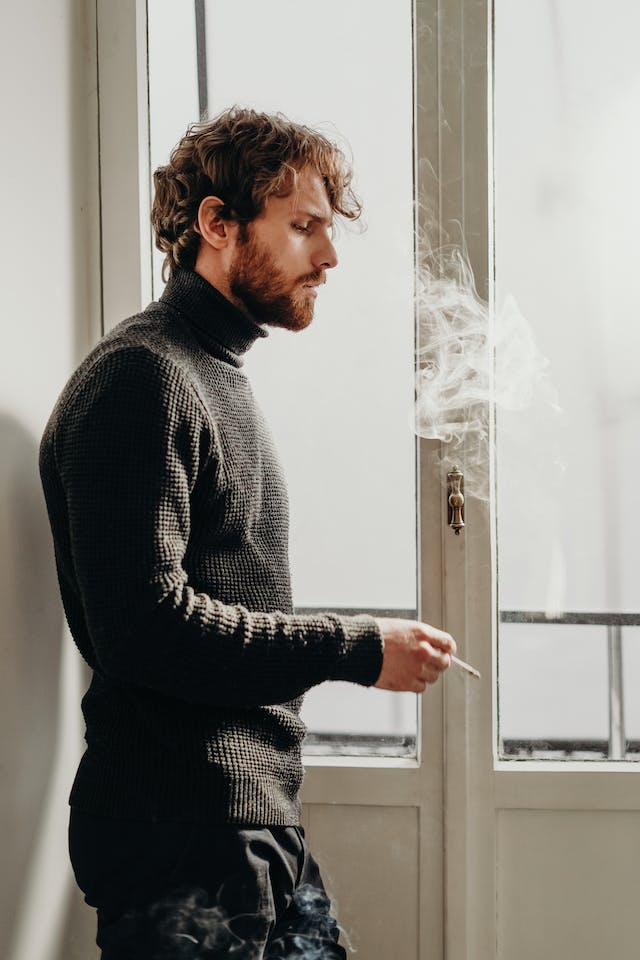Cigarette: (450, 652, 484, 682)
